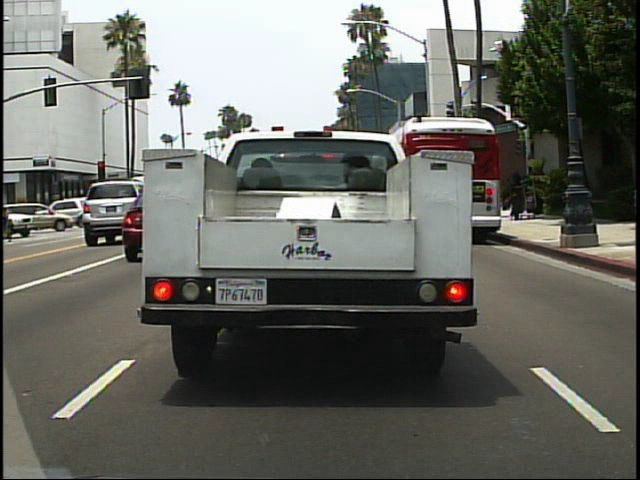person: (507, 170, 531, 222), (18, 199, 37, 234), (1, 199, 15, 245)
